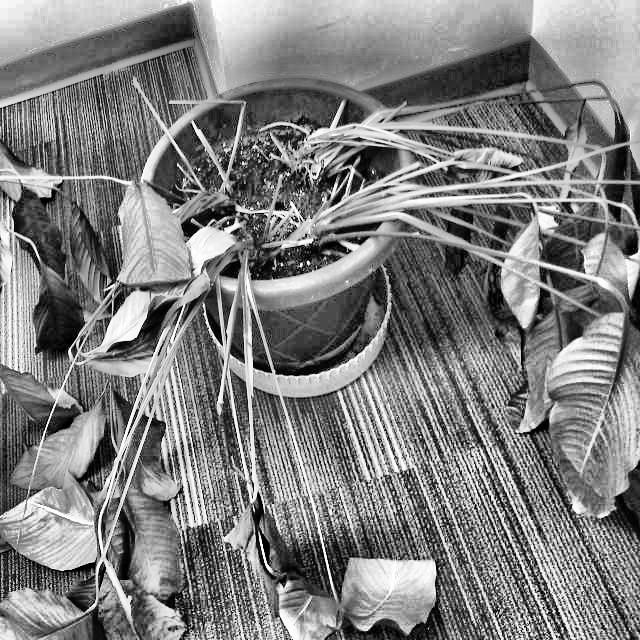plants: (0, 148, 295, 639), (310, 108, 640, 528)
